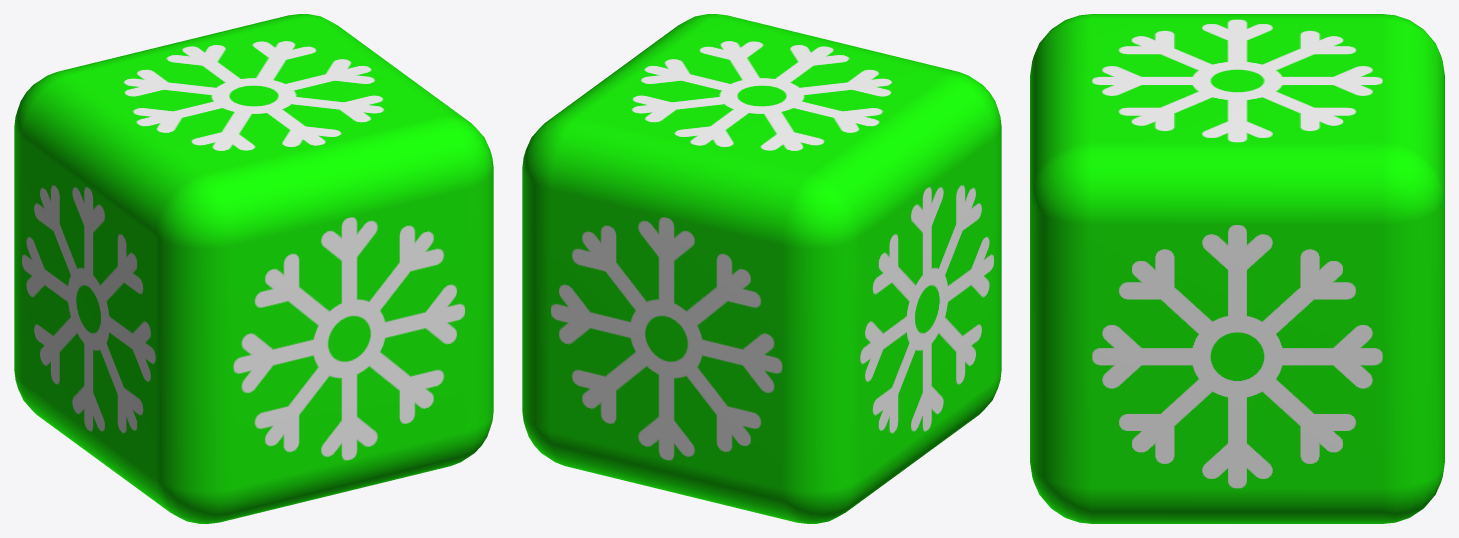
The model's file is freeze.fbx.
The picture shows the model from 3 angles, left to right: view 1: azimuth 30°, elevation 25°; view 2: azimuth 150°, elevation 25°; view 3: azimuth 270°, elevation 25°; orthographic projection. The views are drawn at different scales.
Parts seen in each view (by area): view 1: pCube5; view 2: pCube5; view 3: pCube5.
Boxes of the visible parts, x1=… form: pCube5: x1=14, y1=14, x2=493, y2=523; pCube5: x1=522, y1=14, x2=1001, y2=523; pCube5: x1=1030, y1=14, x2=1444, y2=523.
Size of the model in its own units: 2 by 2 by 2.
